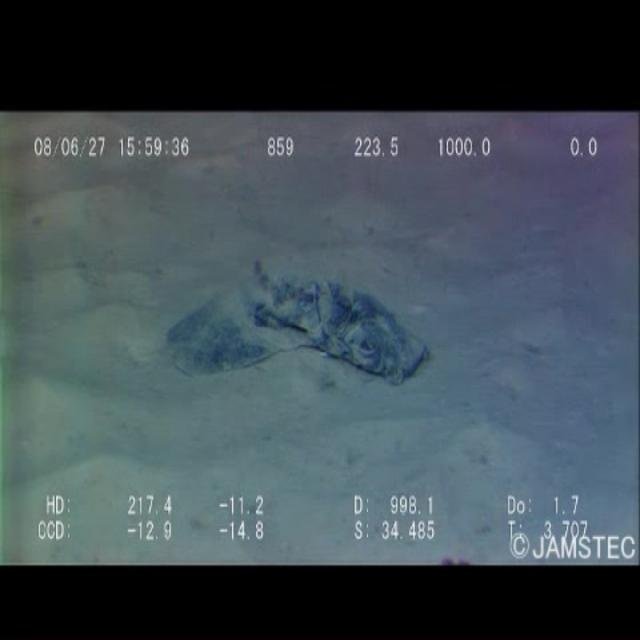Accessories: (154, 239, 439, 437)
